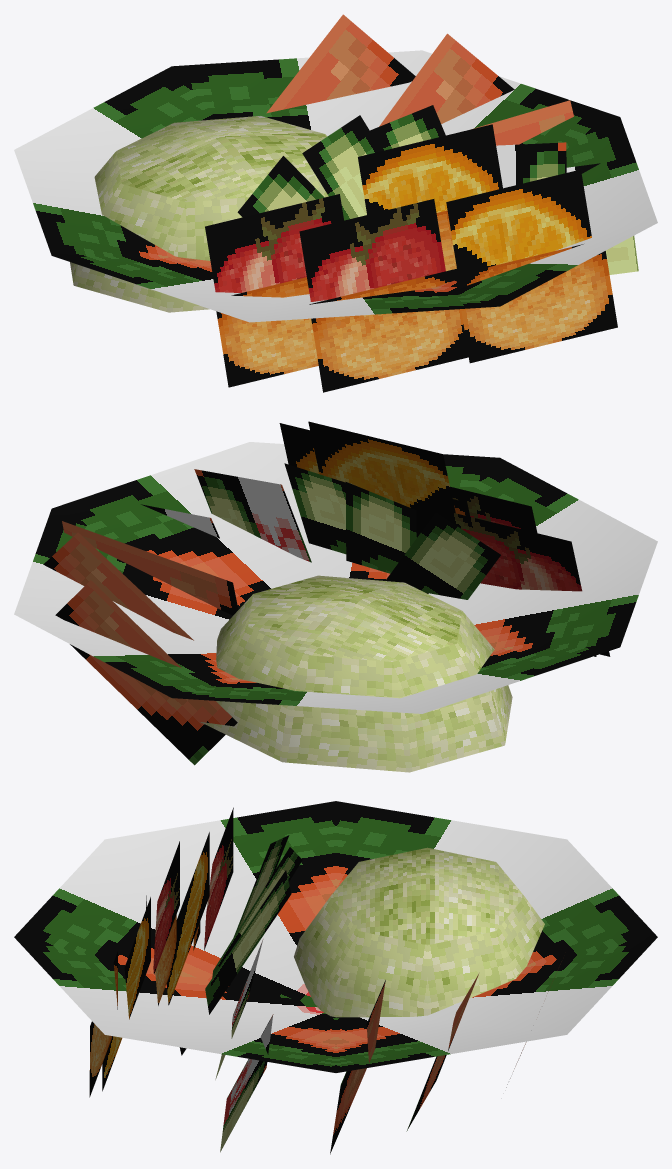
The picture shows the model from 3 angles, top to bottom: view 1: azimuth 30°, elevation 25°; view 2: azimuth 150°, elevation 25°; view 3: azimuth 270°, elevation 25°; orthographic projection.
Visible parts, largest first — view 1: 5537u_fri00_ss; view 2: 5537u_fri00_ss; view 3: 5537u_fri00_ss.
Part boxes in pixels (x1,y1,x2,y2): 5537u_fri00_ss: (14,14,657,392); 5537u_fri00_ss: (14,421,657,772); 5537u_fri00_ss: (14,801,657,1154).
Bounding box in the file's own units: 0.8882 × 0.3398 × 0.8882.
5 materials, 5 textured.
